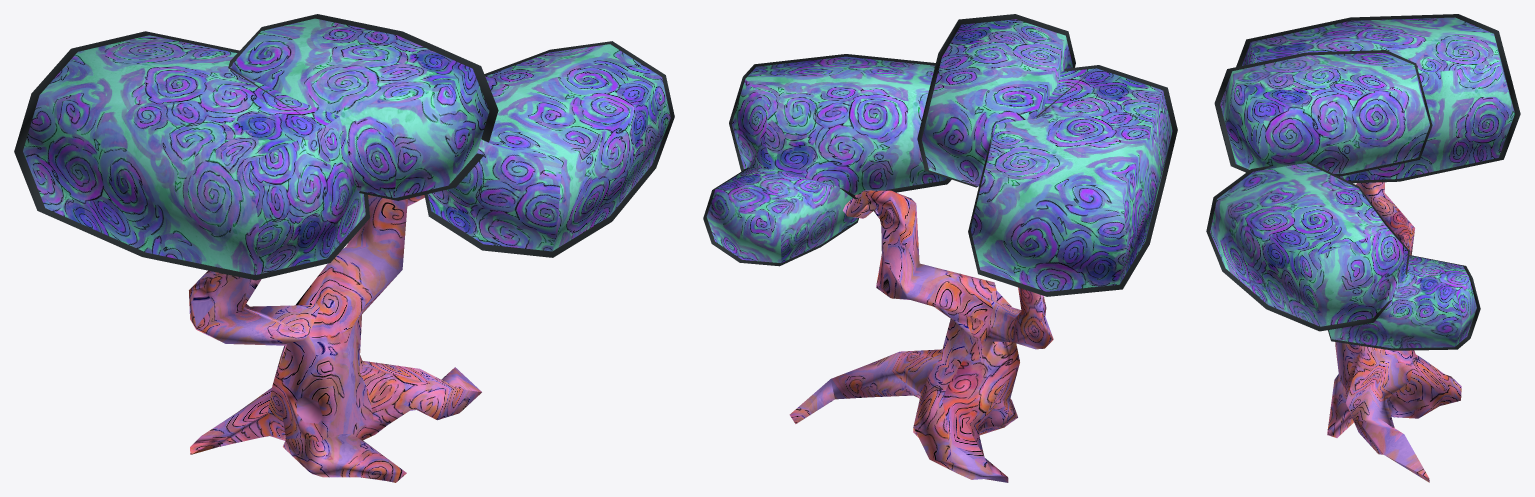
The model's file is Tree_01_Art.glb.
The picture shows the model from 3 angles, left to right: view 1: azimuth 30°, elevation 25°; view 2: azimuth 150°, elevation 25°; view 3: azimuth 270°, elevation 25°; orthographic projection. The views are drawn at different scales.
Parts seen in each view (by area): view 1: Tree_01_Art; view 2: Tree_01_Art; view 3: Tree_01_Art.
Part boxes in pixels (left/top/right/bottom): Tree_01_Art: left=14, top=14, right=674, bottom=482; Tree_01_Art: left=703, top=14, right=1177, bottom=482; Tree_01_Art: left=1206, top=14, right=1520, bottom=482.
Size of the model in its own units: 15.93 by 12.1 by 9.75.
3 materials, 2 textured.
